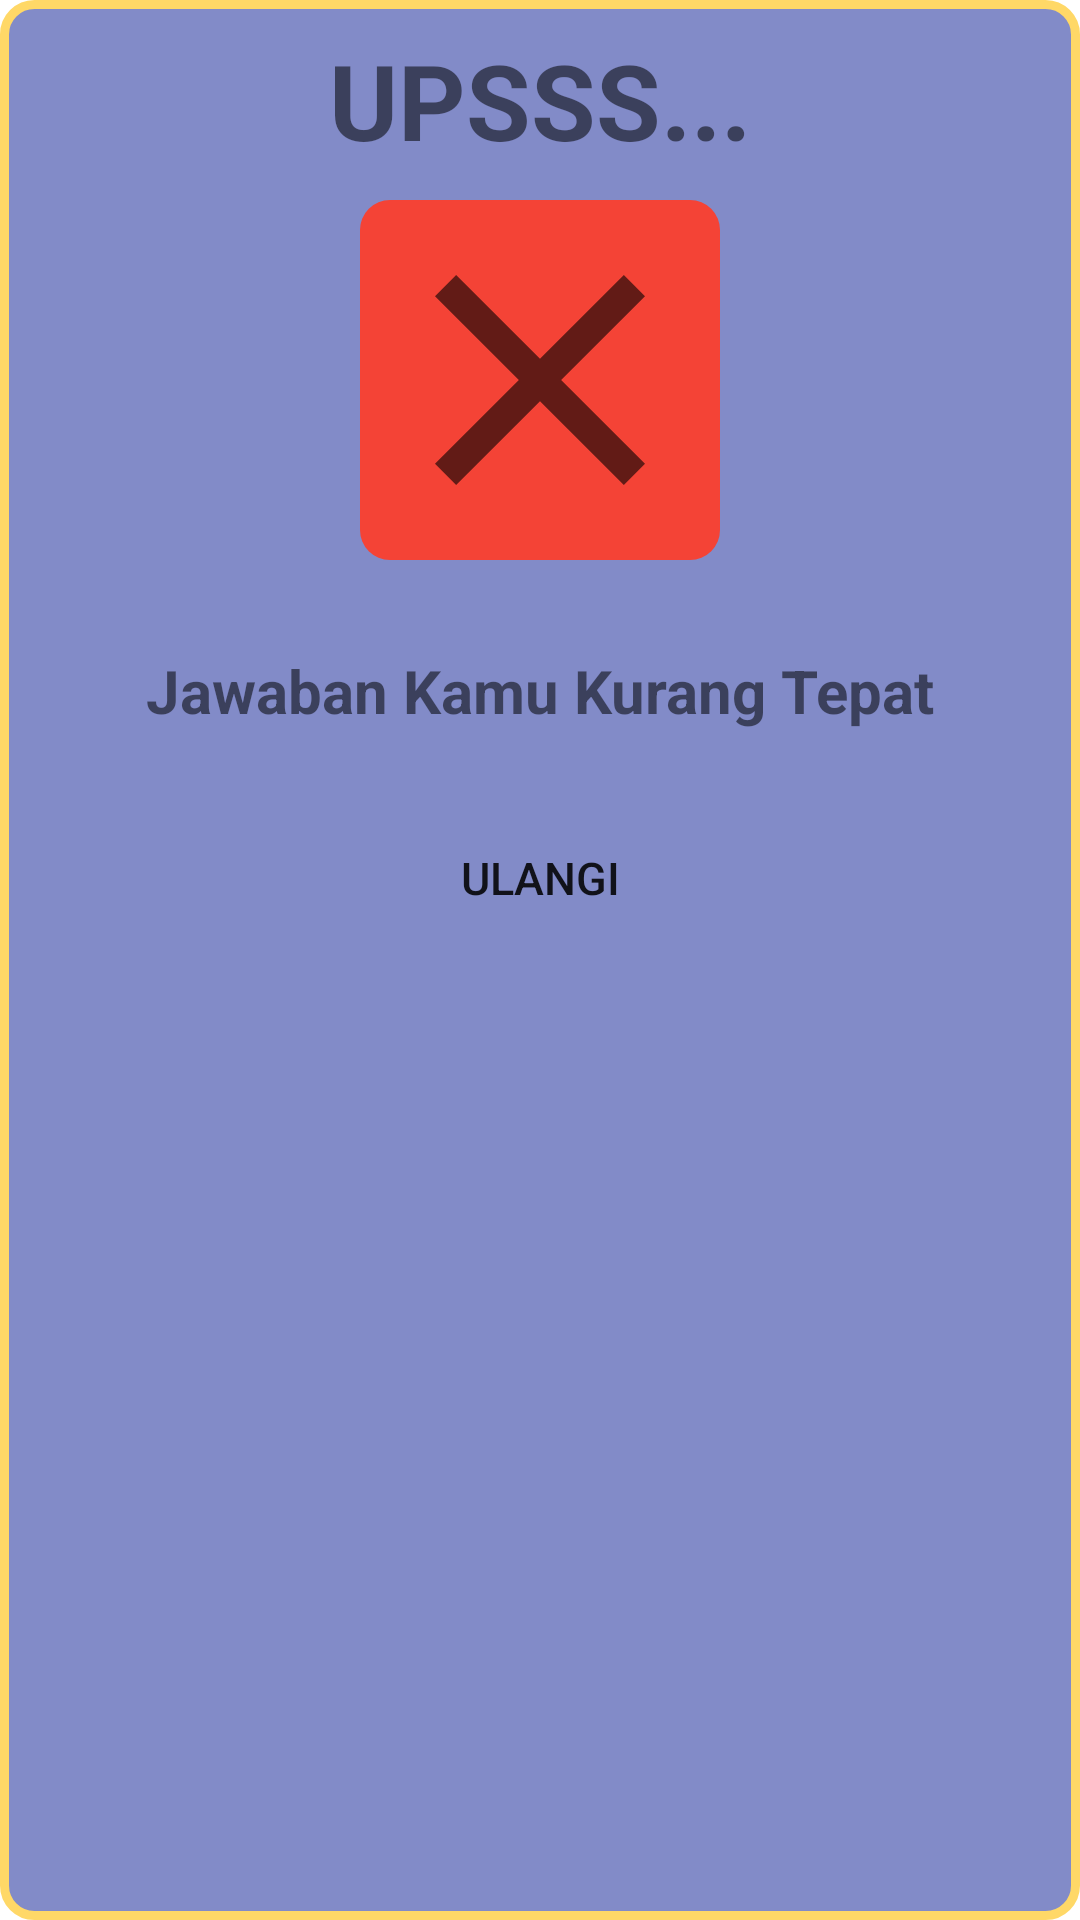

Locate icon controls on the screen. Image size 1080×1920, boxes as [x1,y1,x2,y2].
close: [360,200,720,560]
